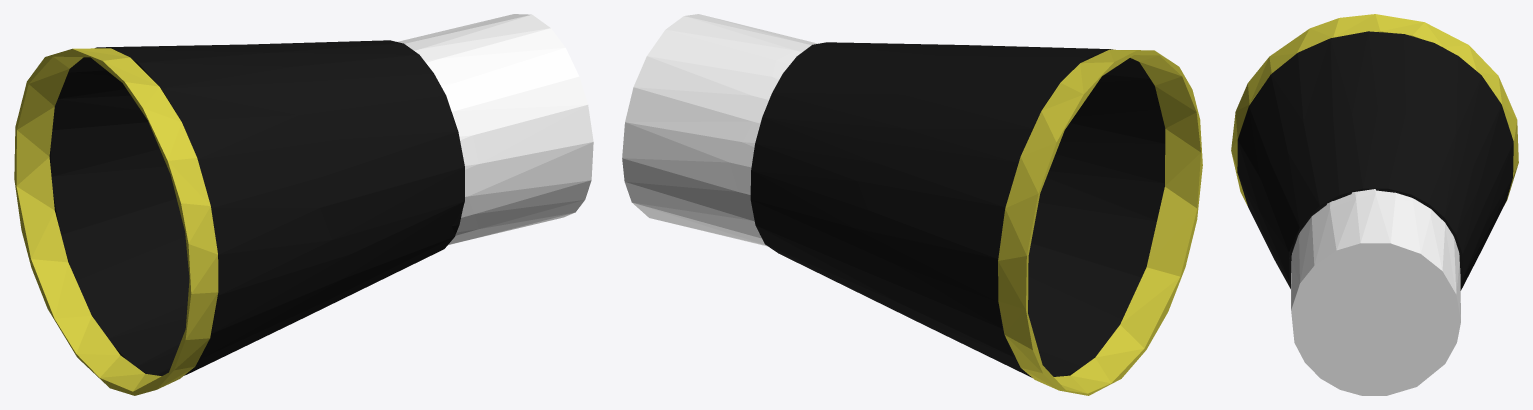
File: forearm_dexter_collision.obj
3 views of the same model, side by side, from view 1: azimuth 30°, elevation 25°; view 2: azimuth 150°, elevation 25°; view 3: azimuth 270°, elevation 25° (orthographic). The views are drawn at different scales.
Parts seen in each view (by area): view 1: Body7, Body4, Body8; view 2: Body7, Body4, Body8; view 3: Body7, Body4, Body8, Body5.
Boxes of the visible parts, left/top/right/bottom form: Body7: left=49, top=40, right=464, bottom=375; Body4: left=397, top=14, right=593, bottom=244; Body8: left=14, top=48, right=218, bottom=395; Body7: left=750, top=42, right=1165, bottom=377; Body4: left=622, top=14, right=817, bottom=246; Body8: left=998, top=49, right=1202, bottom=395; Body7: left=1237, top=31, right=1513, bottom=290; Body4: left=1291, top=189, right=1460, bottom=395; Body8: left=1231, top=14, right=1518, bottom=206; Body5: left=1289, top=189, right=1462, bottom=283.
Bounding box in the file's own units: 28.4 × 19.89 × 19.81.
